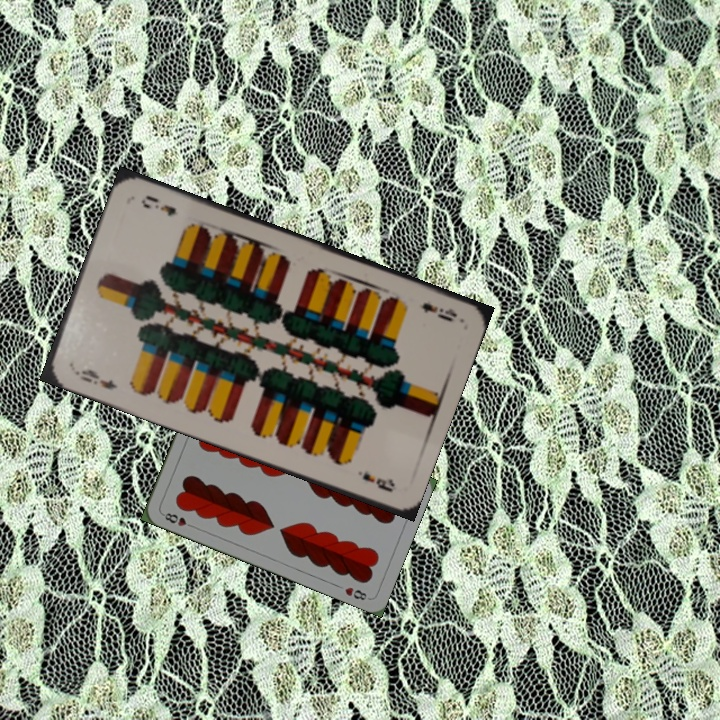E9: (70, 365, 120, 392), (417, 298, 460, 325)
H8: (158, 509, 197, 531)
